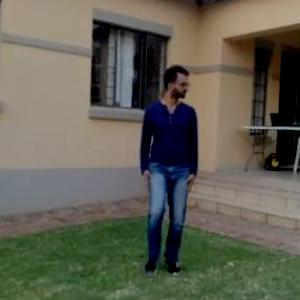follow: (129, 51, 205, 299)
